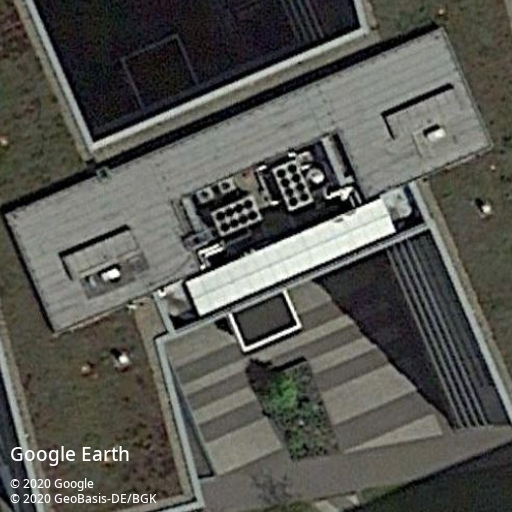Chiller: (210, 195, 264, 238), (271, 159, 314, 212), (217, 177, 237, 195), (195, 185, 215, 203)
